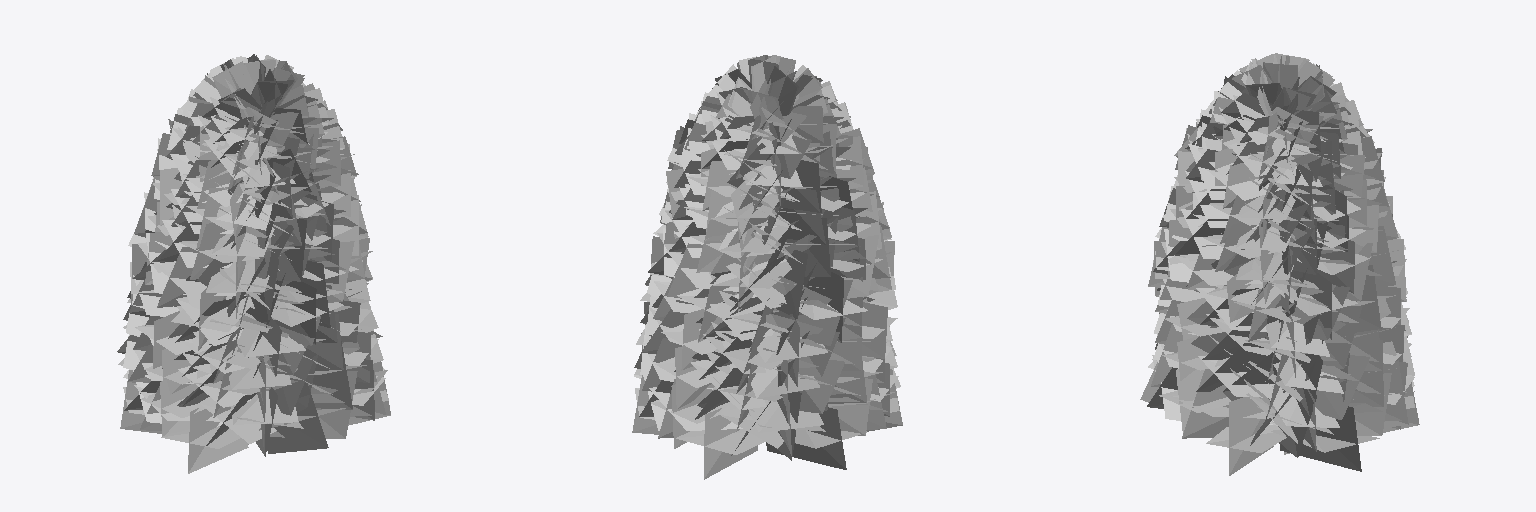
File: Thuja_01.obj
3 views of the same model, side by side, from view 1: azimuth 30°, elevation 25°; view 2: azimuth 150°, elevation 25°; view 3: azimuth 270°, elevation 25° (orthographic).
Visible parts, largest first — view 1: Thuja_01_thuja_tex.1037_thuja_tex; view 2: Thuja_01_thuja_tex.1037_thuja_tex; view 3: Thuja_01_thuja_tex.1037_thuja_tex.
Part boxes in pixels (left/top/right/bottom): Thuja_01_thuja_tex.1037_thuja_tex: left=117, top=54, right=390, bottom=473; Thuja_01_thuja_tex.1037_thuja_tex: left=632, top=55, right=902, bottom=479; Thuja_01_thuja_tex.1037_thuja_tex: left=1140, top=53, right=1419, bottom=475.
Size of the model in its own units: 1204 by 1904 by 1237.